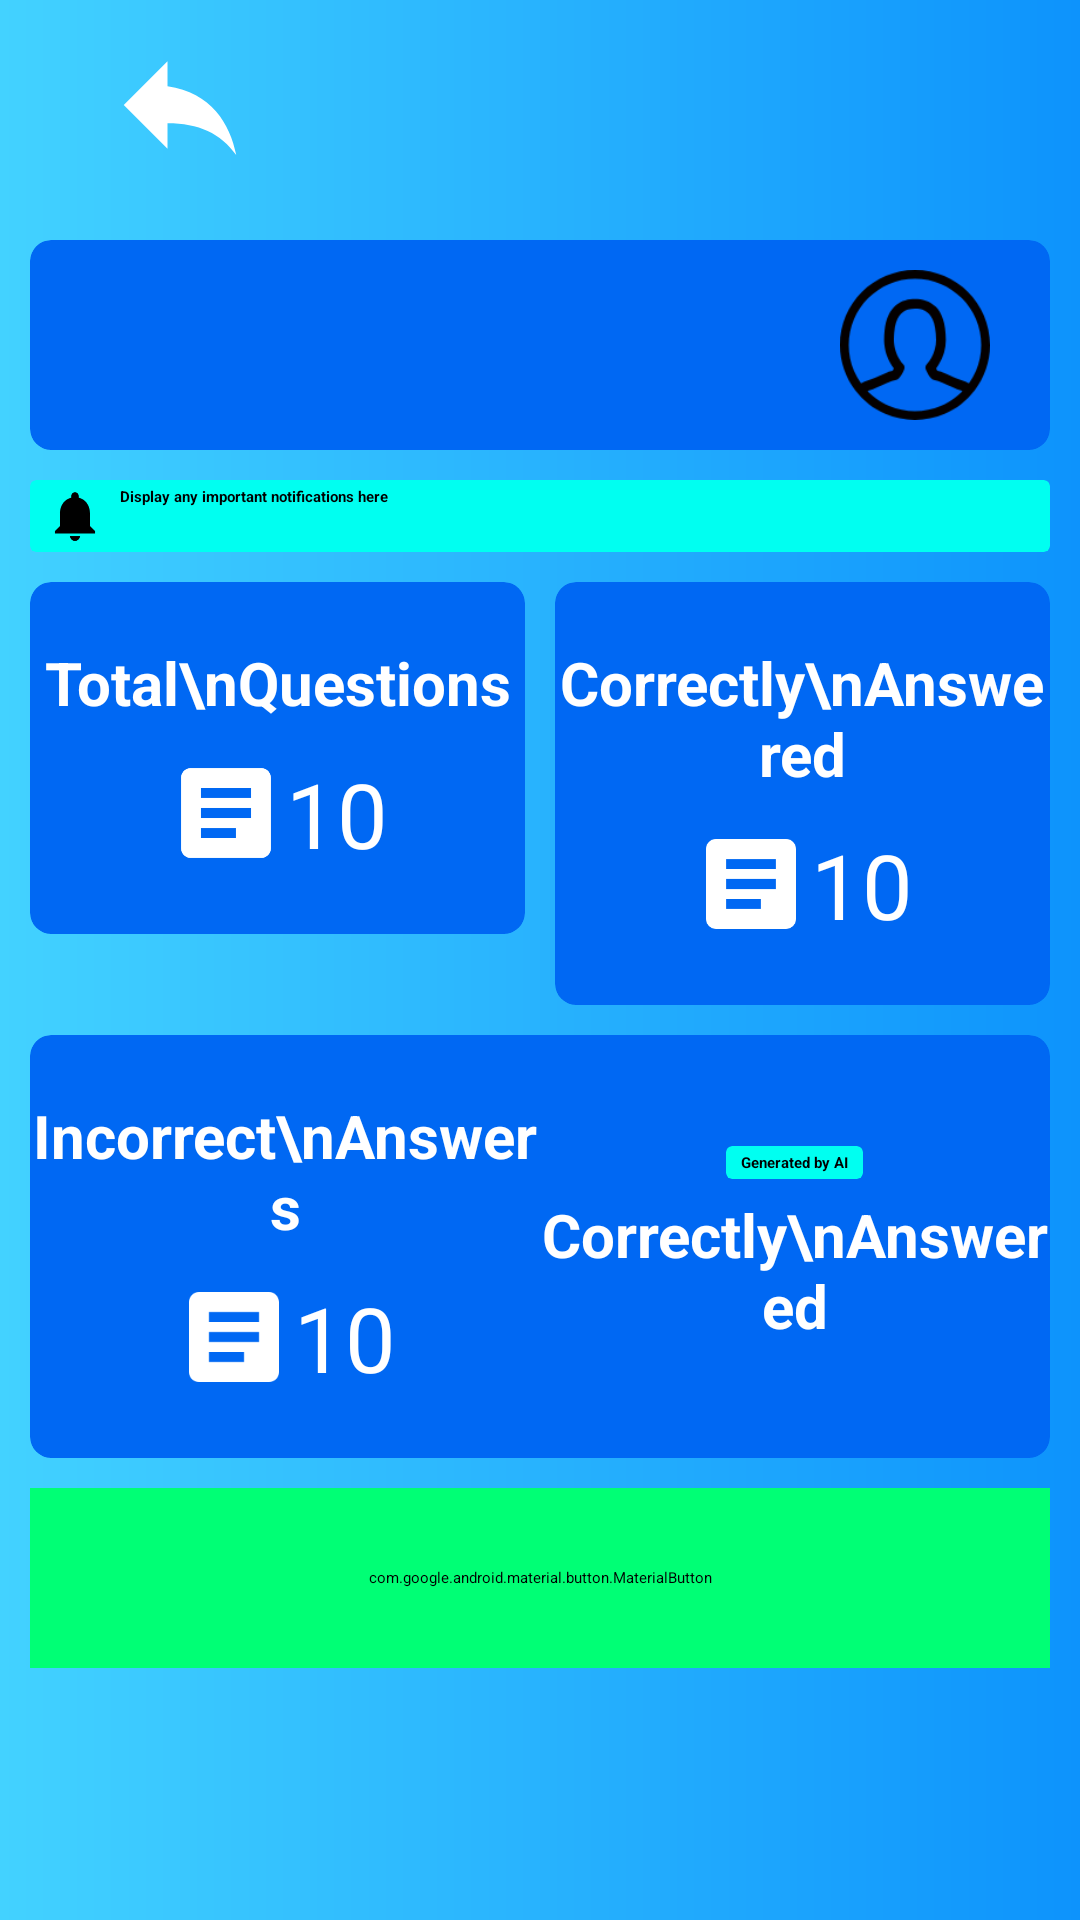

Screen size 1080px x 1920px. Icon name, then its box in pixels as [x1, y1, x2, y2]:
article: [181, 768, 271, 858], [706, 839, 796, 929], [189, 1292, 279, 1382]
reply: [124, 61, 236, 155]
